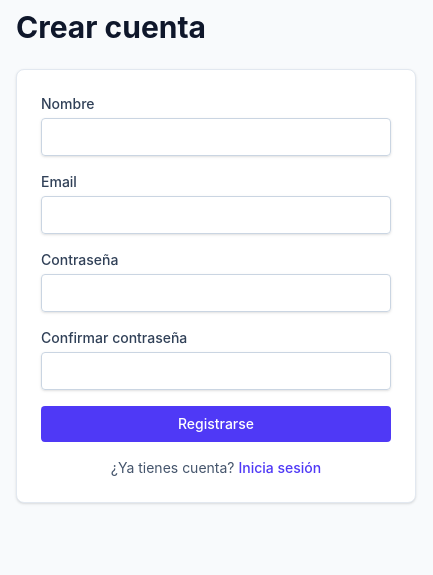
Test: RegisterPage › muestra el error del servicio de registro
Type "Ana" into the field labelled "Nombre" at (216, 137), box [41, 118, 391, 156]
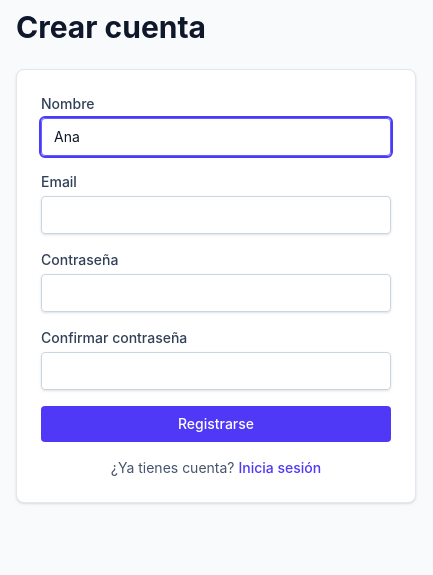
Type "ana@correo.com" into the field labelled "Email" at (216, 215), box [41, 196, 391, 234]
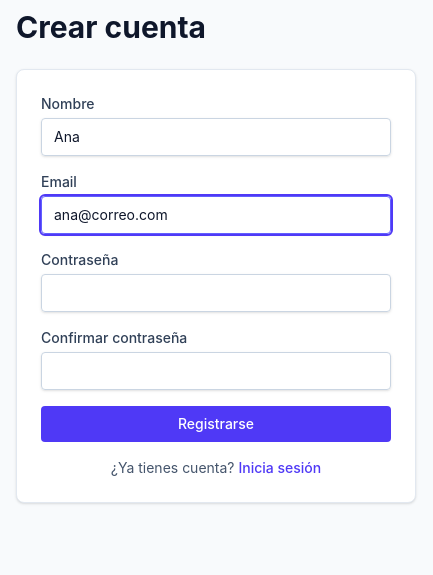
Type "secreta123" into the password field labelled "Contraseña" at (216, 293), box [41, 274, 391, 312]
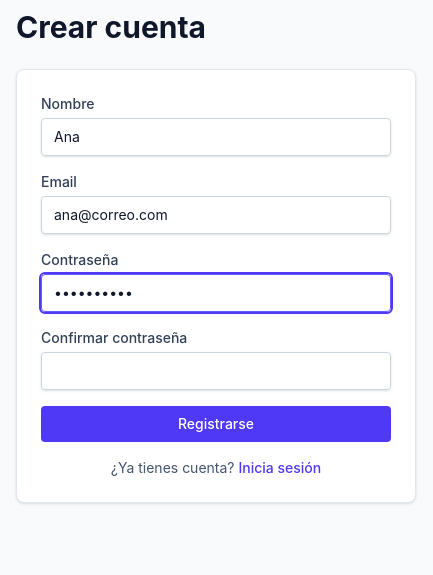
Type "secreta123" into the password field labelled "Confirmar contraseña" at (216, 371), box [41, 352, 391, 390]
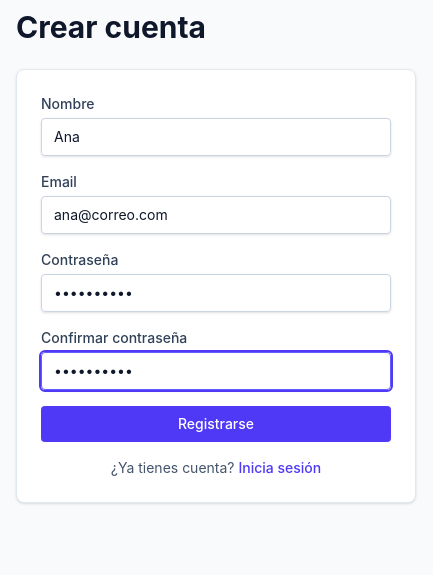
Click the button "Registrarse" at (216, 424), box [41, 406, 391, 442]
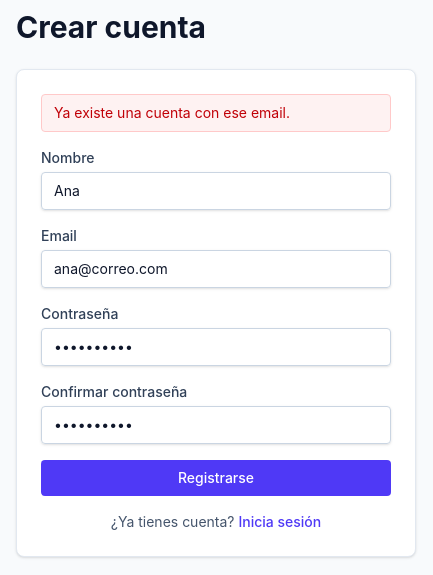
Result: the message reads "Ya existe una cuenta con ese email." at [54, 104, 290, 121]
